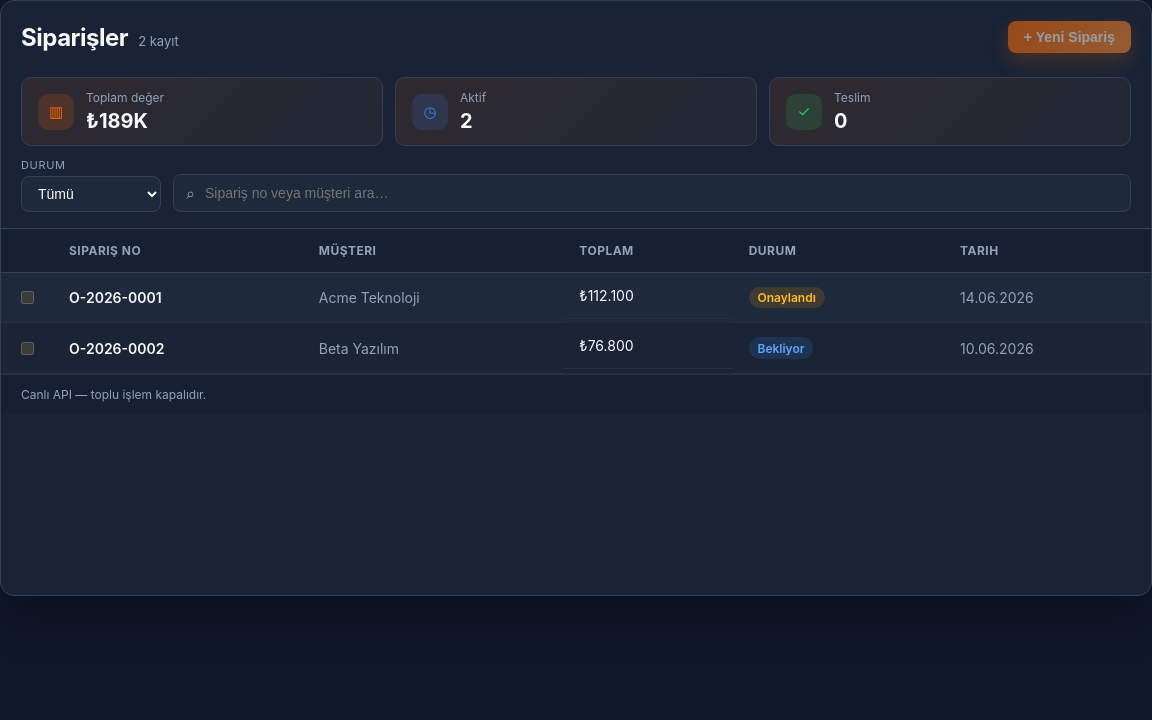
OrderListView › filters orders by search query
Expected: the text "Acme Teknoloji" is shown, x1=303 y1=272 x2=563 y2=323
Type "Beta" into the search field named "Sipariş ara".
click(660, 193); type("Beta")  # box x1=203 y1=184 x2=1118 y2=202
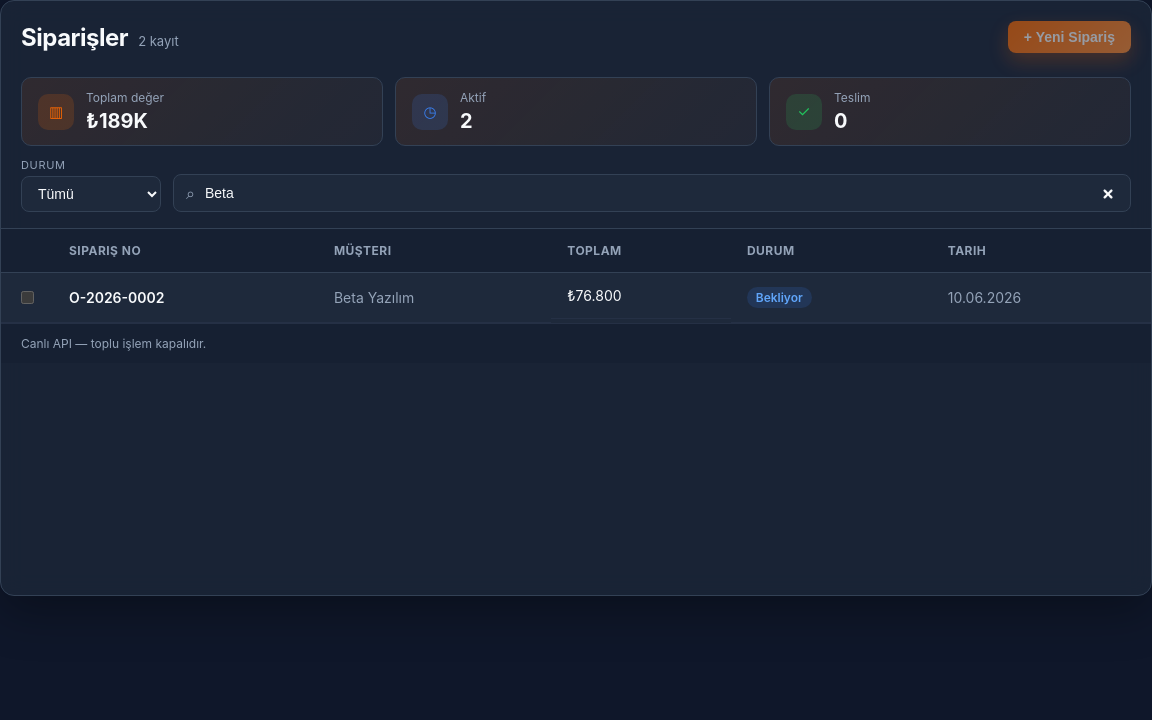
Expected: the text "Beta Yazılım" is shown, x1=318 y1=272 x2=551 y2=323
Expected: the text "Acme Teknoloji" is gone
